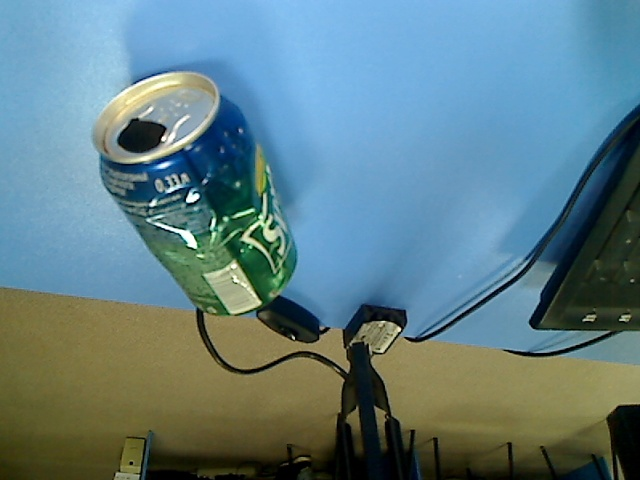can: (86, 68, 302, 321)
